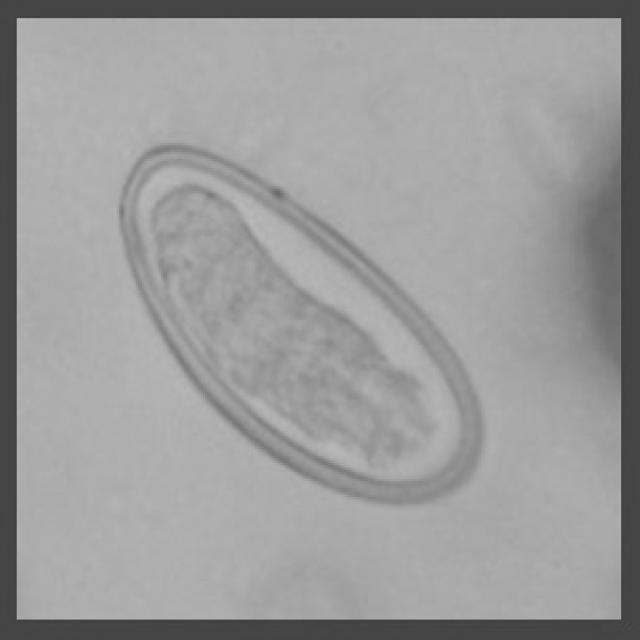Enterobius Vermicularis: (112, 136, 488, 513)
